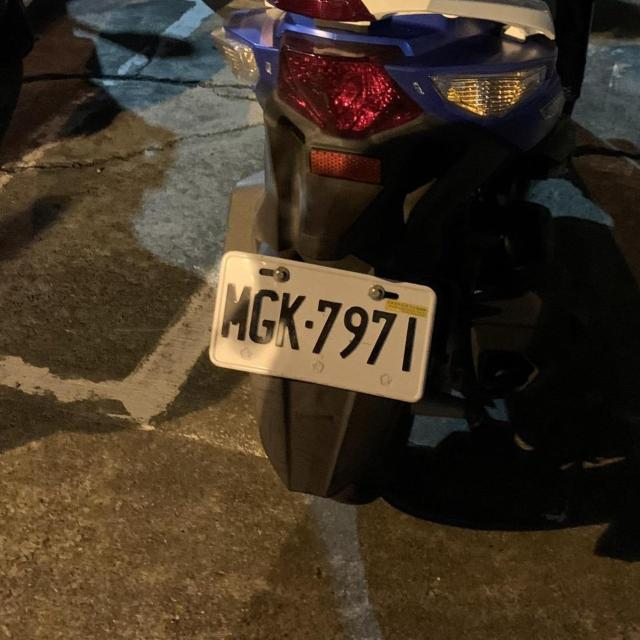W: (200, 244, 444, 408)
